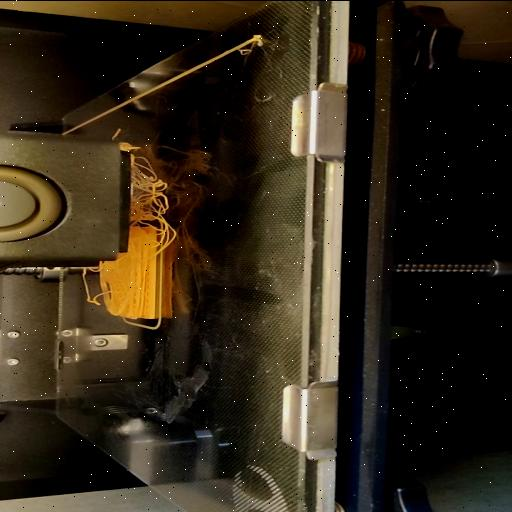spaghetti: (126, 146, 170, 228), (78, 264, 102, 303)
